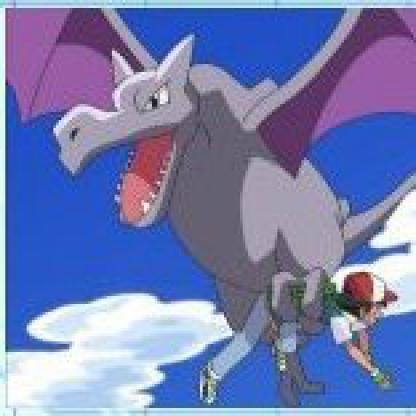Aerodactyl: (9, 8, 416, 296)
